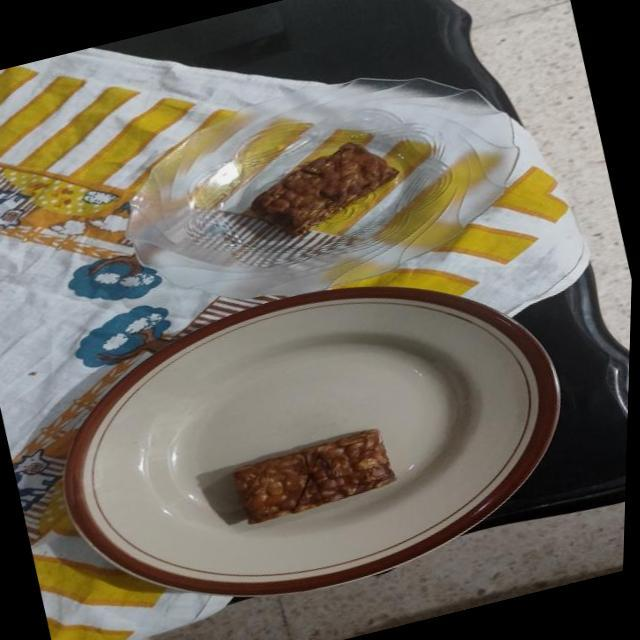tempe_goreng: (234, 429, 395, 523), (251, 142, 398, 235)
